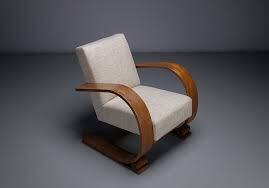chair: (68, 29, 203, 178)
